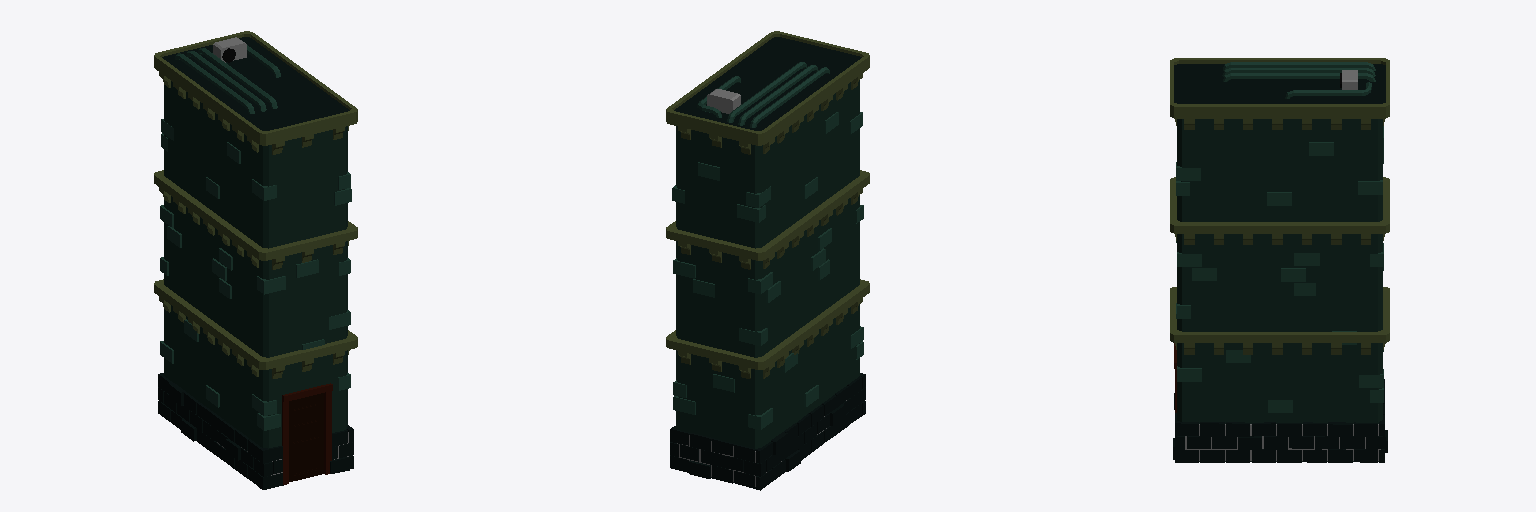
File: 3Story_Slim_Mat.obj
The picture shows the model from 3 angles: view 1: azimuth 30°, elevation 25°; view 2: azimuth 150°, elevation 25°; view 3: azimuth 270°, elevation 25°; orthographic projection.
Parts seen in each view (by area): view 1: 3Story_Slim_Mat_Cube.031; view 2: 3Story_Slim_Mat_Cube.031; view 3: 3Story_Slim_Mat_Cube.031.
Boxes of the visible parts, <box> form: 3Story_Slim_Mat_Cube.031: <box>154,31,357,489</box>; 3Story_Slim_Mat_Cube.031: <box>666,31,869,490</box>; 3Story_Slim_Mat_Cube.031: <box>1170,58,1389,462</box>.
Bounding box in the file's own units: 1.12 × 3.99 × 2.15.